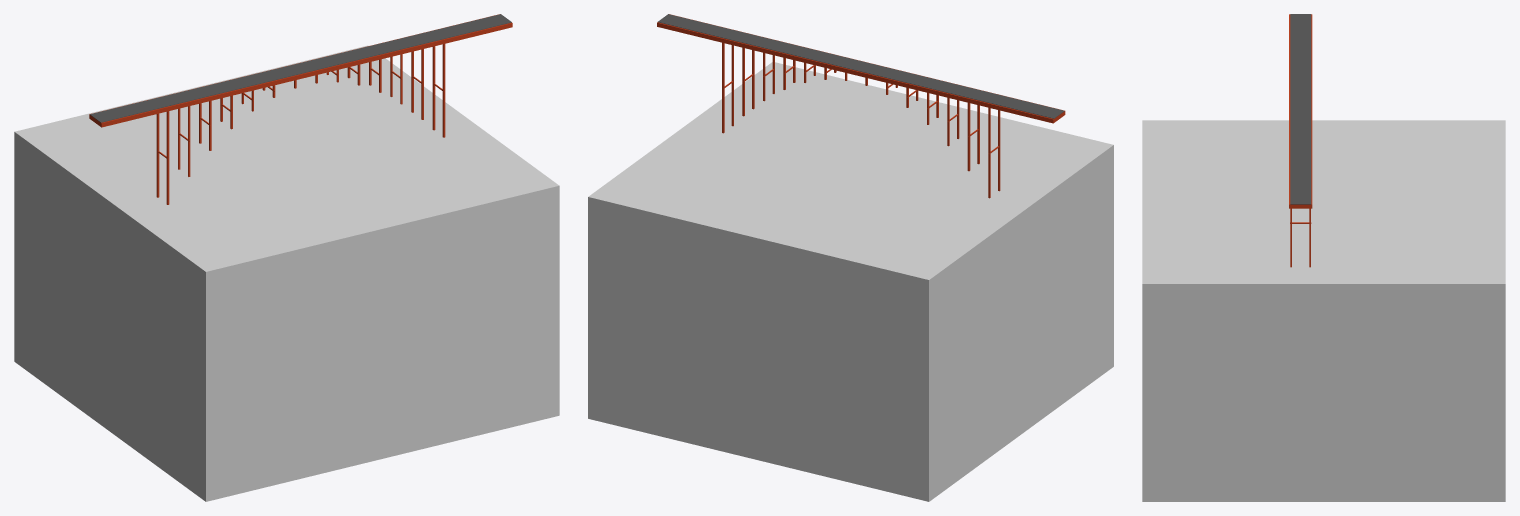
File: maslenicki_most.fbx
The picture shows the model from 3 angles, left to right: view 1: azimuth 30°, elevation 25°; view 2: azimuth 150°, elevation 25°; view 3: azimuth 270°, elevation 25°; orthographic projection. The views are drawn at different scales.
Visible parts, largest first — view 1: Cube.304, Asfalt_Sloj, Kolnik_Greda; view 2: Cube.304, Asfalt_Sloj, Kolnik_Greda; view 3: Cube.304, Asfalt_Sloj, Kolnik_Greda.
Part boxes in pixels (x1=…): Cube.304: x1=14, y1=45, x2=559, y2=501; Asfalt_Sloj: x1=90, y1=14, x2=511, y2=122; Kolnik_Greda: x1=89, y1=14, x2=512, y2=127; Cube.304: x1=588, y1=62, x2=1113, y2=501; Asfalt_Sloj: x1=658, y1=14, x2=1064, y2=118; Kolnik_Greda: x1=657, y1=14, x2=1065, y2=123; Cube.304: x1=1142, y1=120, x2=1505, y2=501; Asfalt_Sloj: x1=1290, y1=14, x2=1311, y2=204; Kolnik_Greda: x1=1289, y1=14, x2=1312, y2=208.
Bounding box in the file's own units: 255 × 195 × 206.
